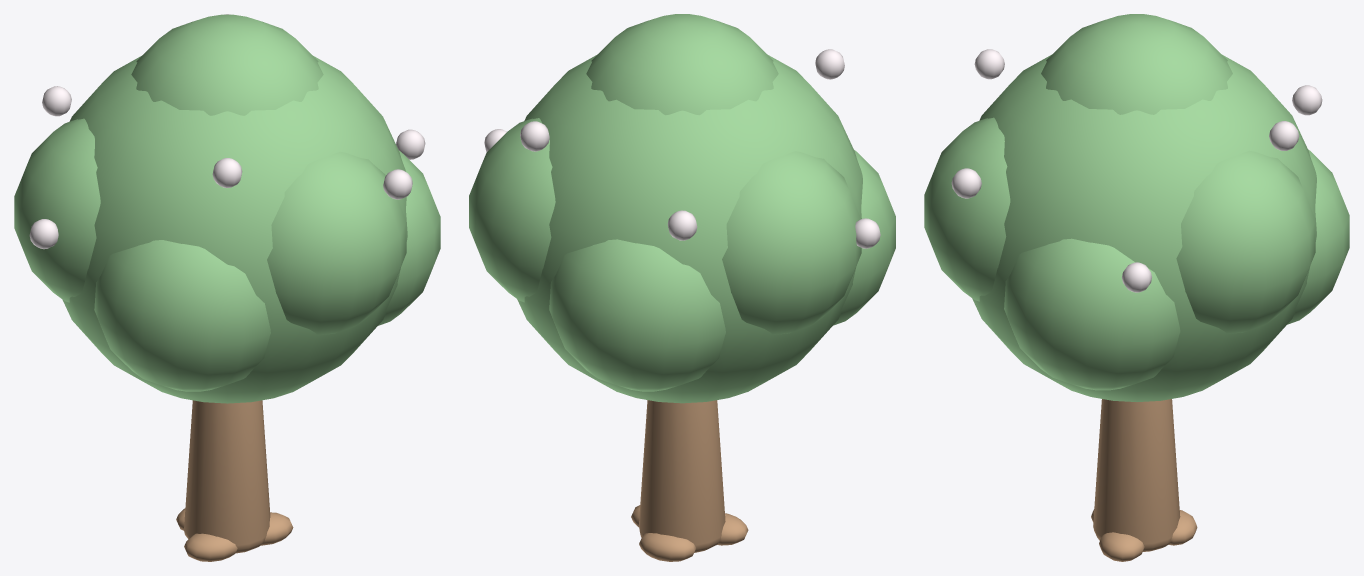
File: tree.glb
The picture shows the model from 3 angles, left to right: view 1: azimuth 30°, elevation 25°; view 2: azimuth 150°, elevation 25°; view 3: azimuth 270°, elevation 25°; orthographic projection.
Parts seen in each view (by area): view 1: leaf, cc9a27e, cfff6fa; view 2: leaf, cc9a27e, cfff6fa; view 3: leaf, cc9a27e, cfff6fa.
Part boxes in pixels (box(x1,y1,x2,y2)): leaf: box(14, 14, 440, 403); cc9a27e: box(176, 400, 293, 561); cfff6fa: box(29, 14, 425, 249); leaf: box(469, 14, 895, 403); cc9a27e: box(631, 400, 748, 561); cfff6fa: box(484, 49, 880, 248); leaf: box(924, 14, 1349, 401); cc9a27e: box(1091, 399, 1197, 561); cfff6fa: box(951, 49, 1322, 292).
Bounding box in the file's own units: 1.34 × 1.69 × 1.26.
